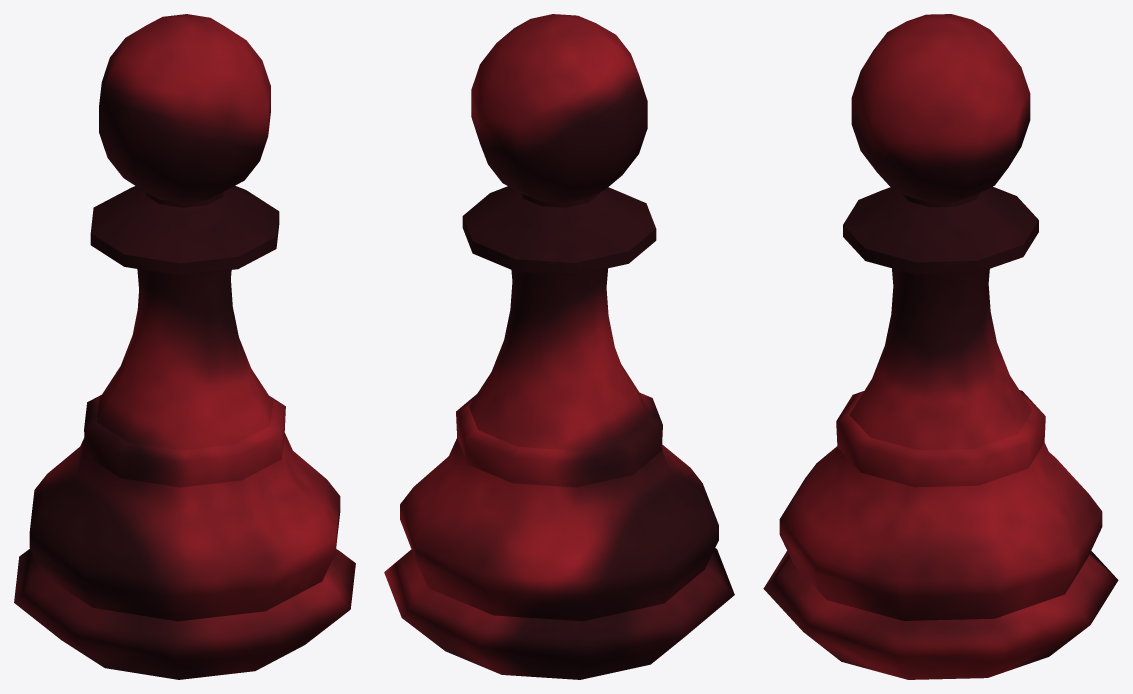
File: item-0-3.glb
3 renders of one model, left to right at view 1: azimuth 30°, elevation 25°; view 2: azimuth 150°, elevation 25°; view 3: azimuth 270°, elevation 25°, orthographic.
Parts seen in each view (by area): view 1: BlackPawn; view 2: BlackPawn; view 3: BlackPawn.
Boxes of the visible parts, x1,y1,x2,y2 form: BlackPawn: [14, 14, 355, 679]; BlackPawn: [384, 14, 734, 679]; BlackPawn: [763, 14, 1118, 679].
Bounding box in the file's own units: 0.0889 × 0.1731 × 0.0918.
Materials: 1 (1 with a texture image).
